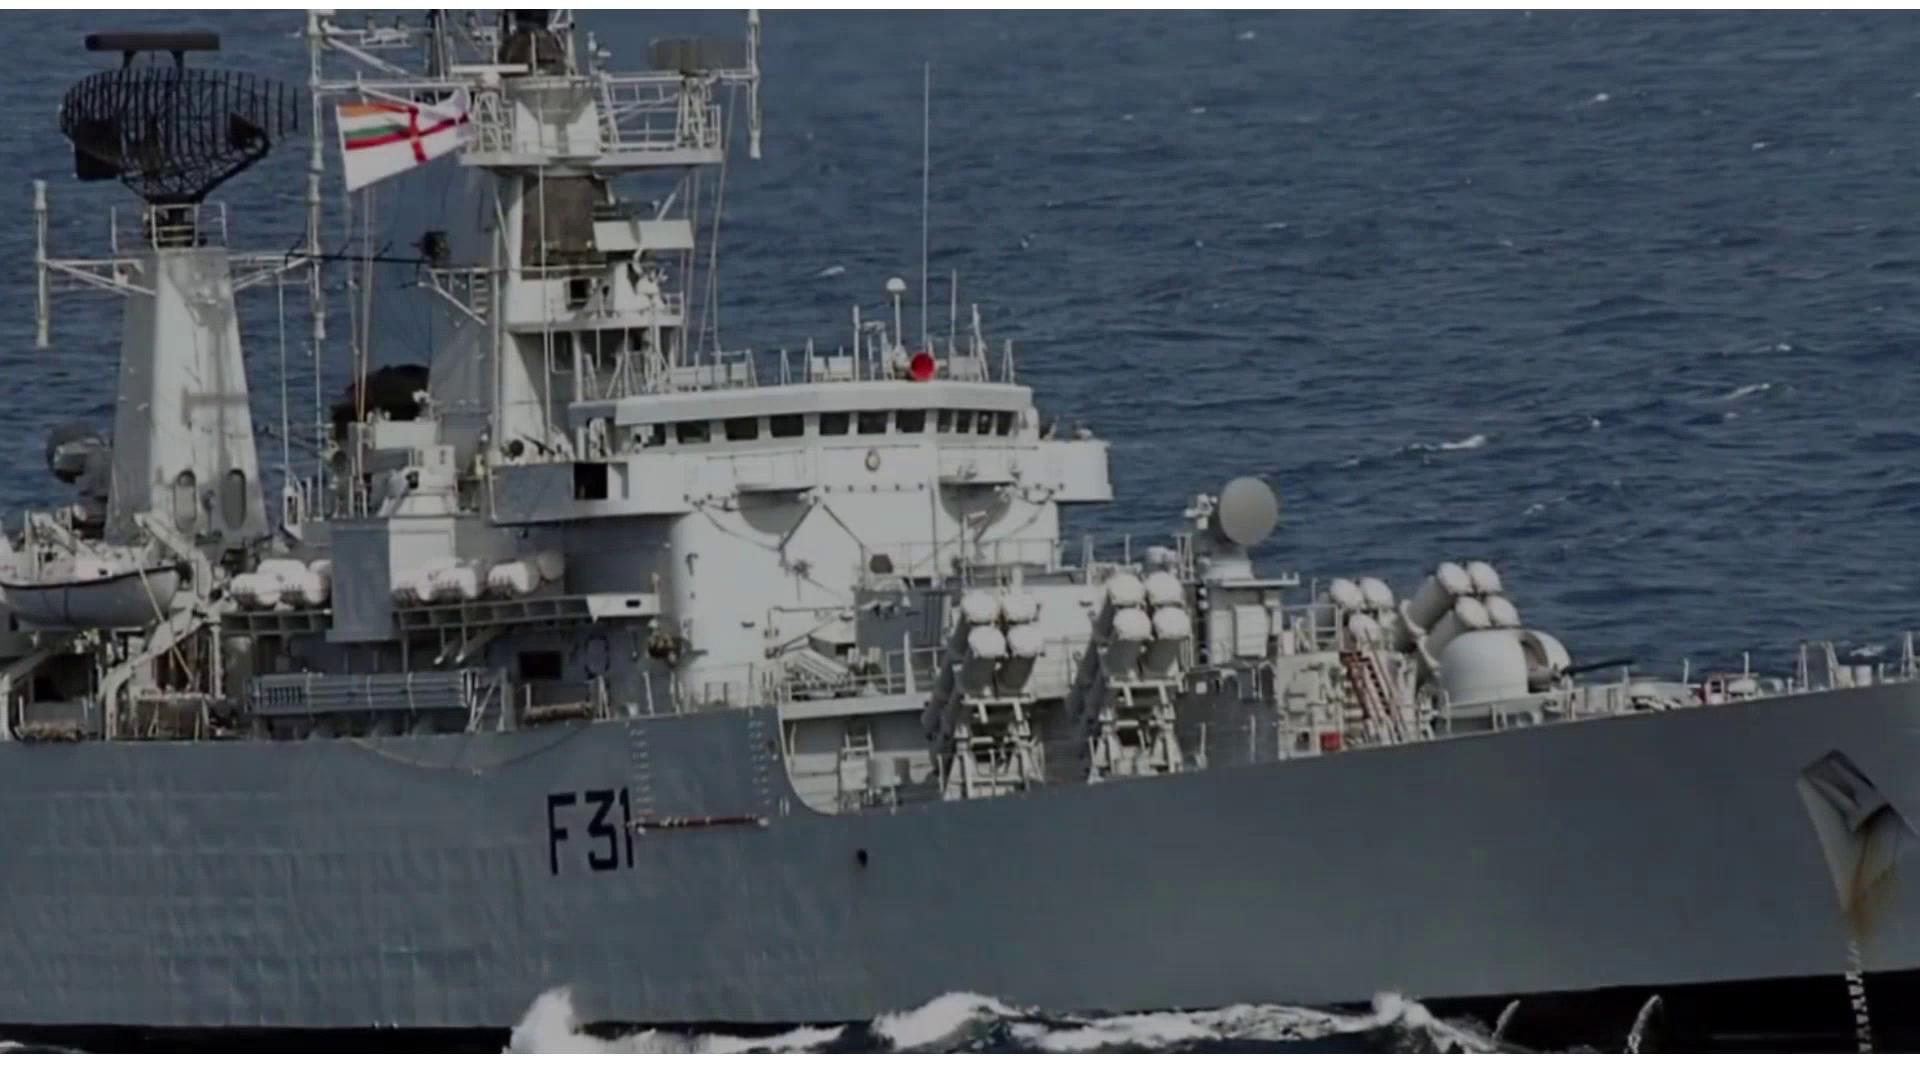OCR: (538, 782, 636, 882)
